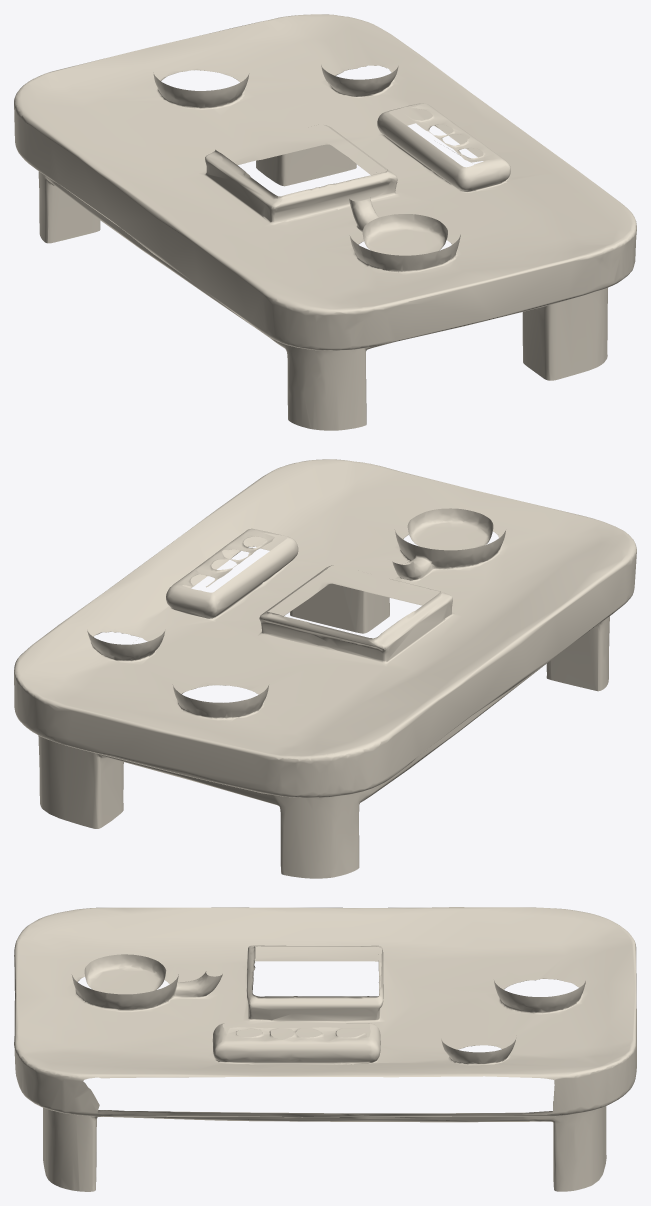
The model's file is living_table.glb.
3 renders of one model, top to bottom at view 1: azimuth 30°, elevation 25°; view 2: azimuth 150°, elevation 25°; view 3: azimuth 270°, elevation 25°, orthographic. The views are drawn at different scales.
Bounding box in the file's own units: 0.2541 × 0.096 × 0.3952.
